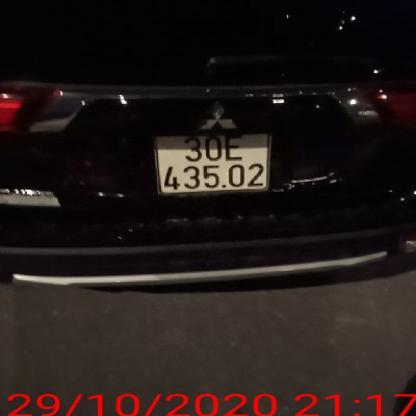biensoxe: (154, 128, 279, 194)
